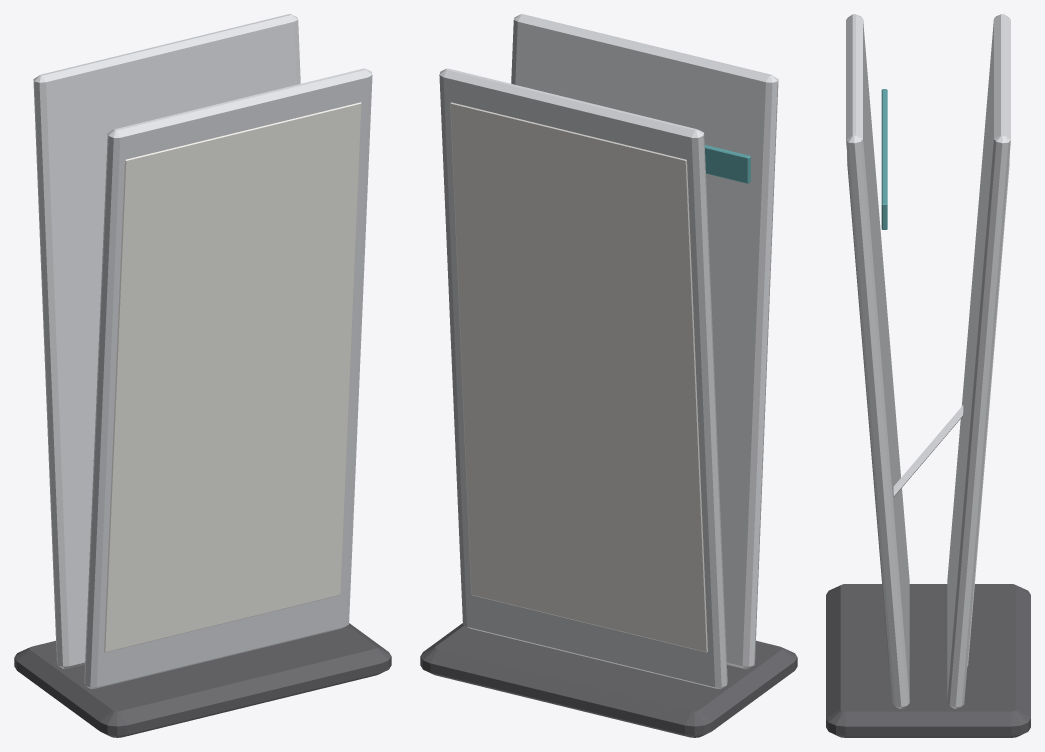
Rendered from fast-food-and-drive-thru-floor-standing-promo-stand-76788d37__16130.glb.
3 renders of one model, left to right at view 1: azimuth 30°, elevation 25°; view 2: azimuth 150°, elevation 25°; view 3: azimuth 270°, elevation 25°, orthographic.
Parts seen in each view (by area): view 1: floor-standing-promo-stand; view 2: floor-standing-promo-stand; view 3: floor-standing-promo-stand.
Part boxes in pixels (box(x1,y1,x2,y2)): floor-standing-promo-stand: box(14, 14, 391, 737); floor-standing-promo-stand: box(420, 14, 797, 737); floor-standing-promo-stand: box(826, 14, 1030, 737).
Size of the model in its own units: 0.68 by 1.35 by 0.42.
